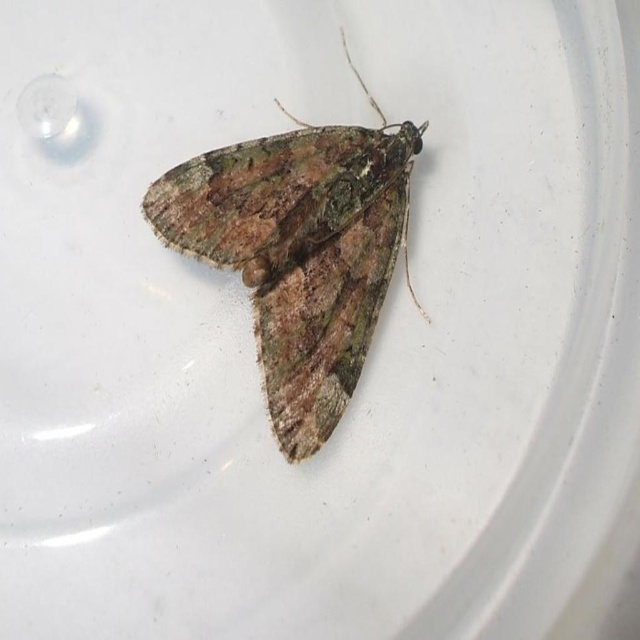Butterfly: (138, 44, 462, 453)
